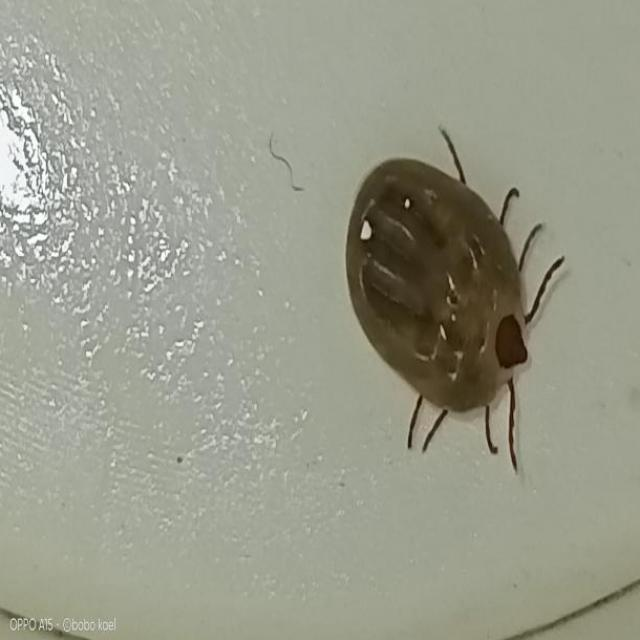Rhipicephalus Sanguineus-F-Fed: (344, 128, 570, 476)
